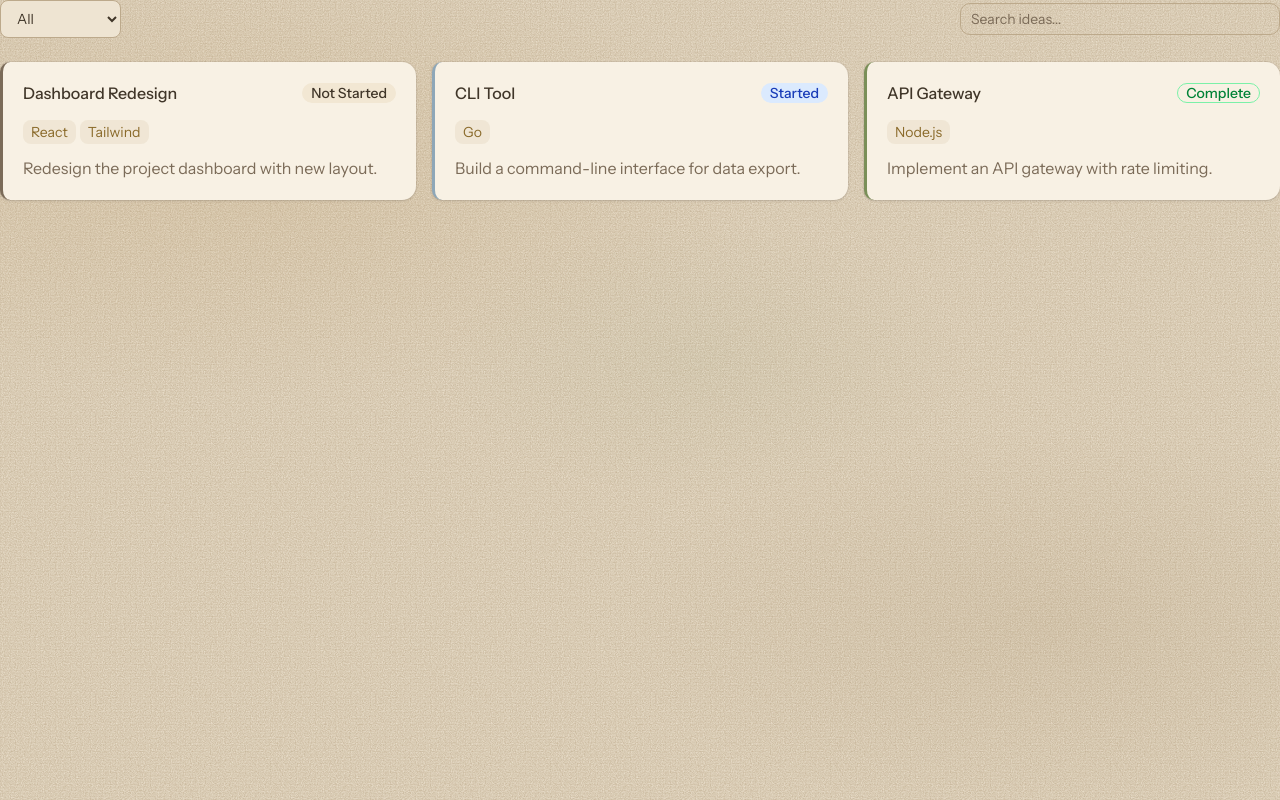
it: IdeasGrid › searches by title (case-insensitive)
Type "cli" into the field with placeholder "Search ideas...".
click(1120, 19); type("cli")  # box top-left (960, 3), bottom-right (1279, 35)
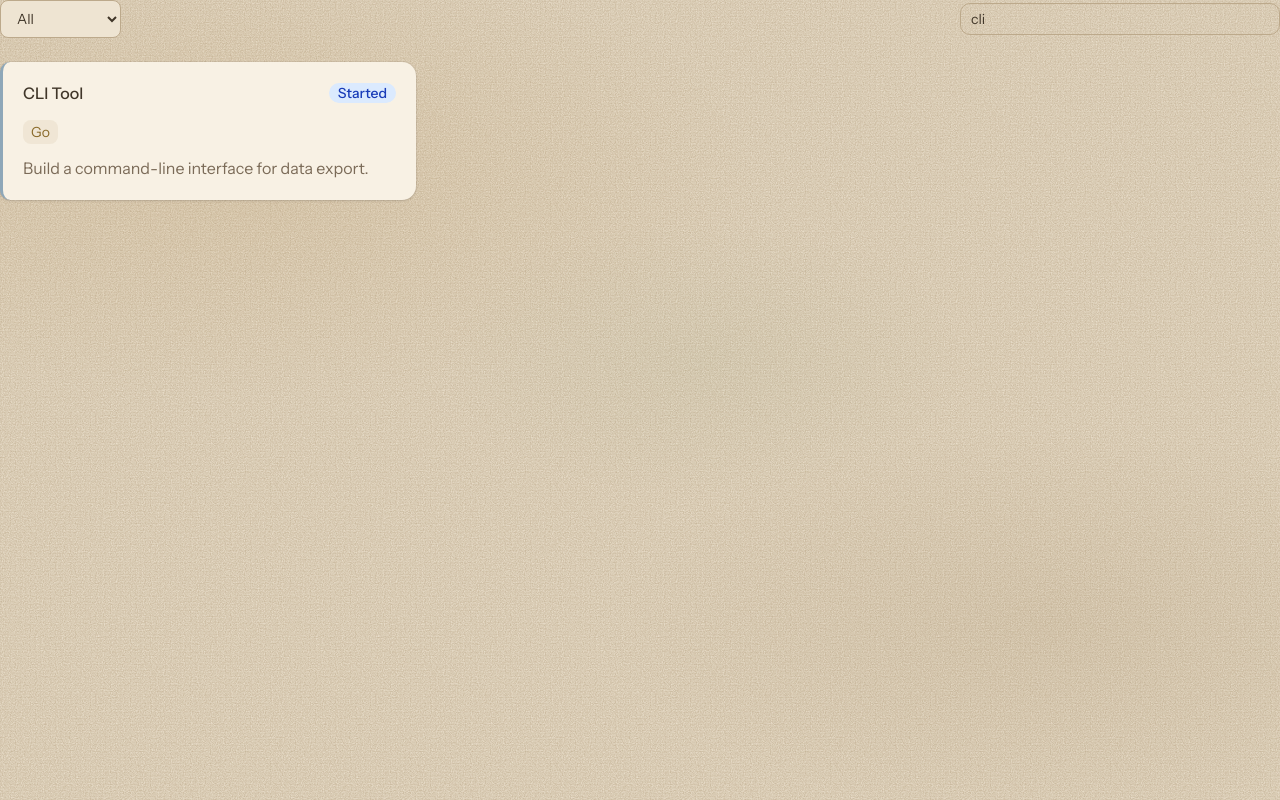
Expected: the text "CLI Tool" is shown, top-left (23, 82), bottom-right (83, 104)
Expected: the link "Dashboard Redesign" is gone
Expected: the link "API Gateway" is gone
